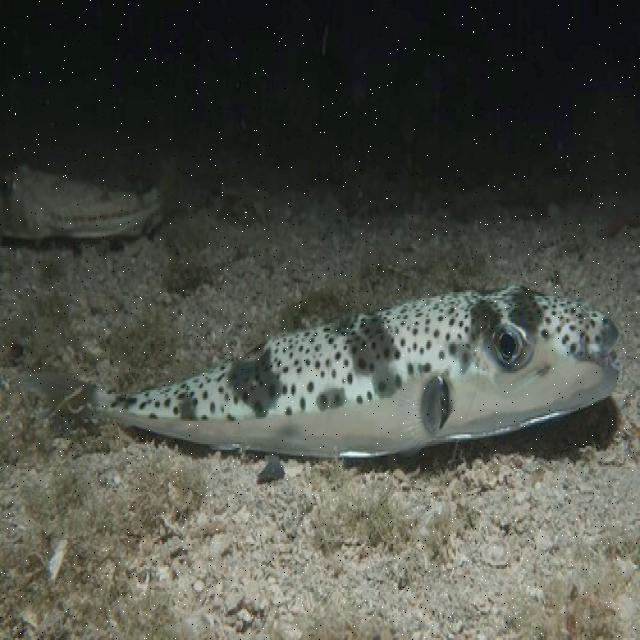Balik: (18, 287, 619, 457), (0, 166, 161, 240)
